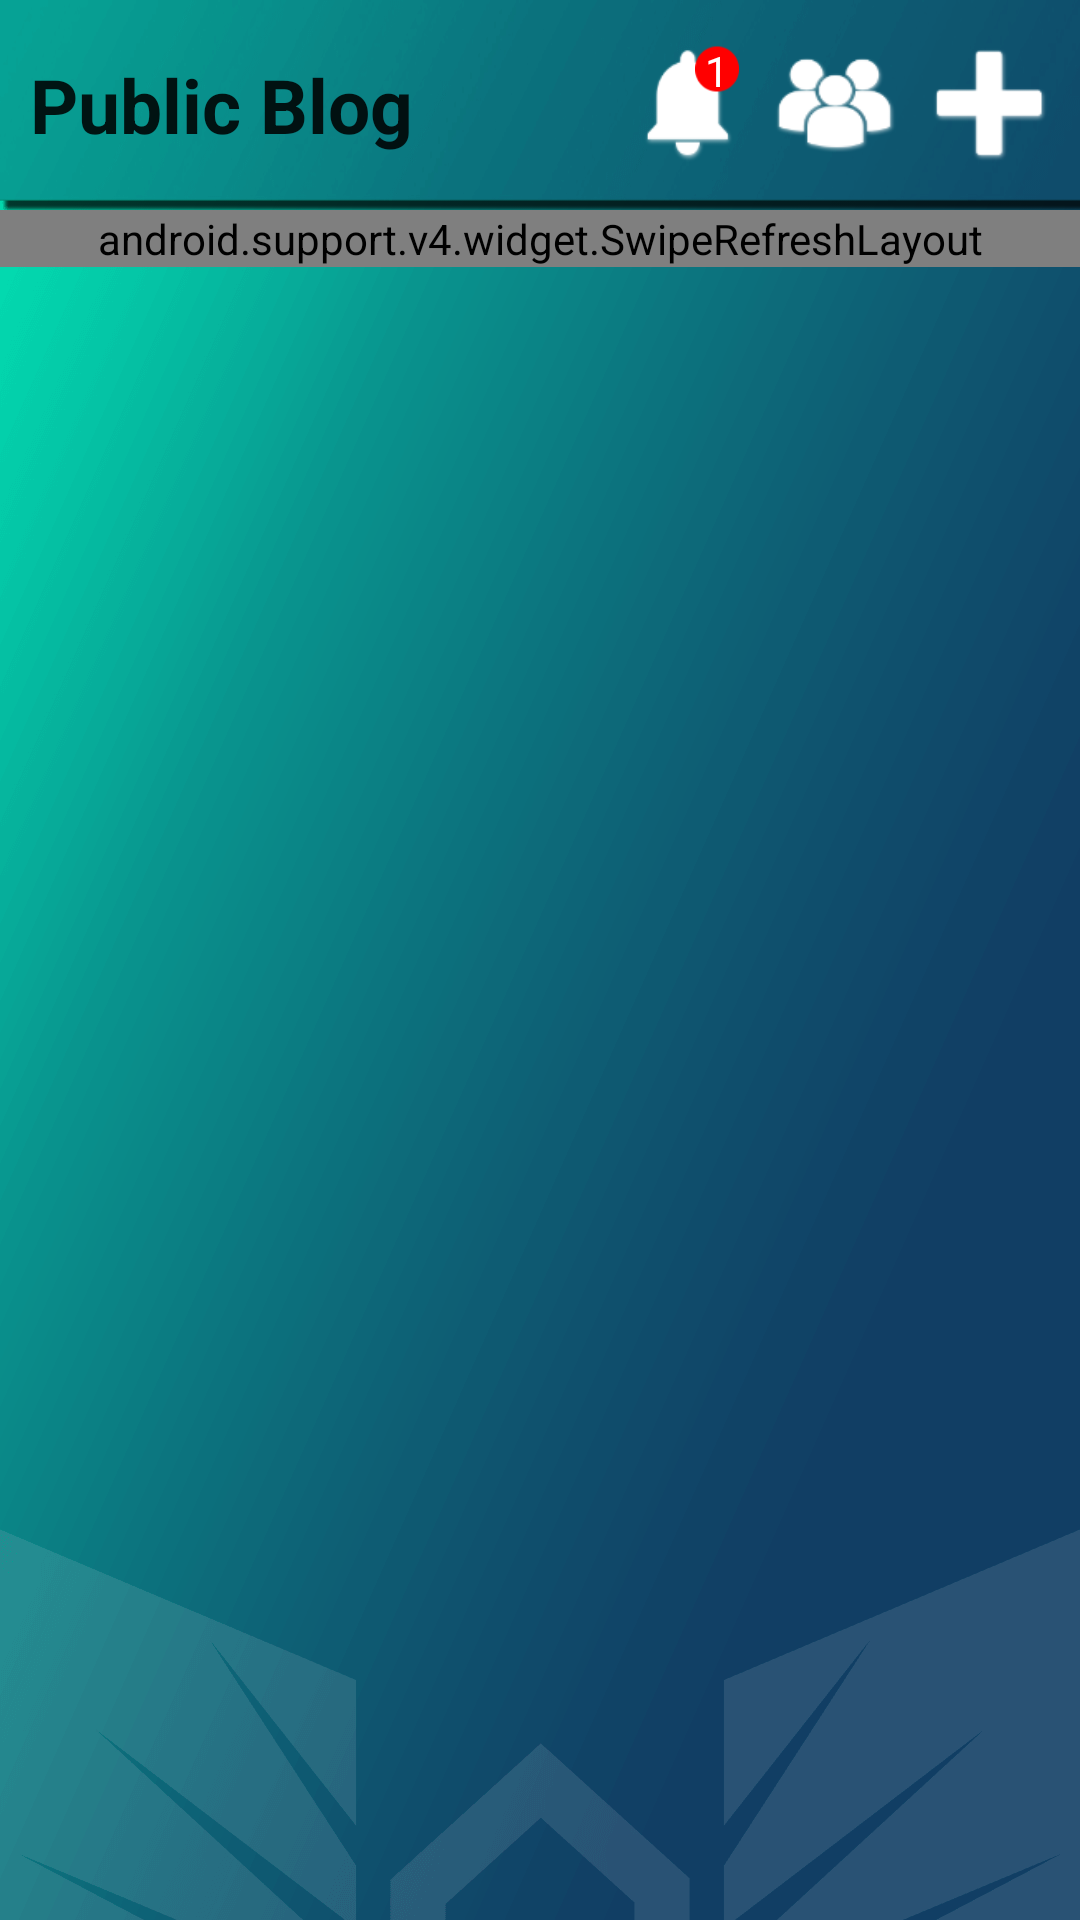

Icon click points for this 1080w x 1920h phone screenshot, format [x,y]:
add: [990,104]
friend: [835,105]
notification: [693,102]
